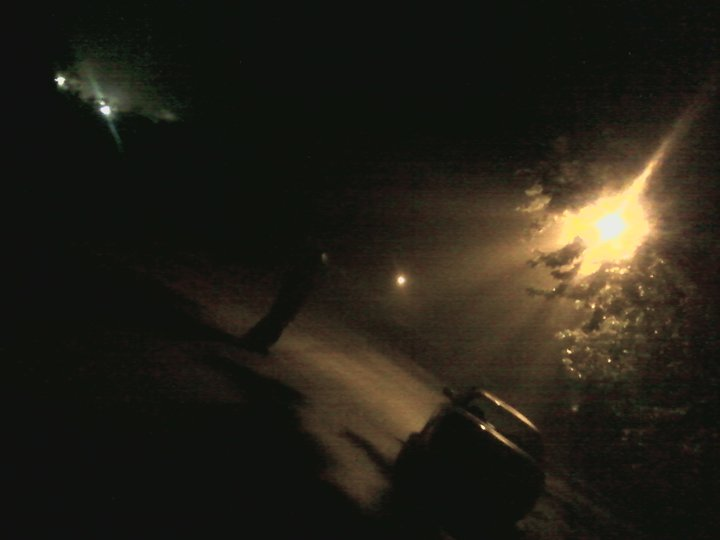car: (406, 376, 553, 533)
